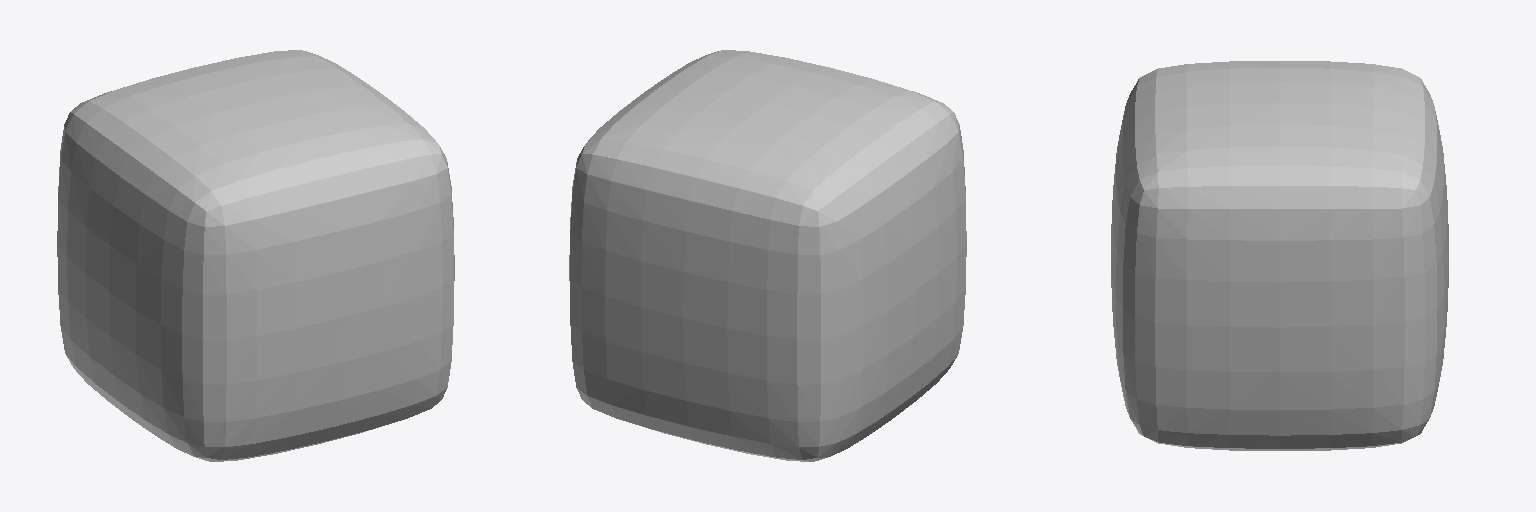
The model's file is testding2.obj.
The picture shows the model from 3 angles: view 1: azimuth 30°, elevation 25°; view 2: azimuth 150°, elevation 25°; view 3: azimuth 270°, elevation 25°; orthographic projection.
Parts seen in each view (by area): view 1: Cube; view 2: Cube; view 3: Cube.
Part boxes in pixels (left/top/right/bottom): Cube: left=57, top=50, right=454, bottom=461; Cube: left=569, top=50, right=966, bottom=461; Cube: left=1111, top=61, right=1448, bottom=450.
Size of the model in its own units: 1.96 by 1.96 by 1.96.